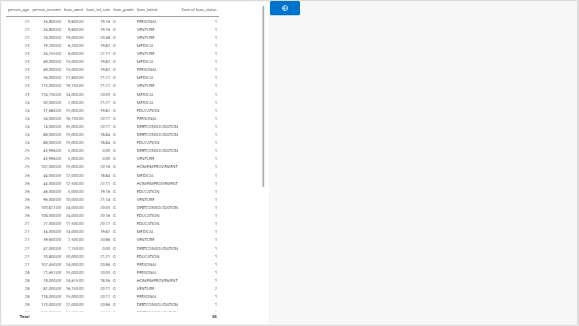

What the dashboard file says about the page in this screenshot:
{"tool":"powerbi","page":{"name":"Drtail Drillthrough","canvas":[1920,1080],"ordinal":2},"visuals":[{"type":"tableEx","fields":{"Values":["credit_risk_dataset.person_age","credit_risk_dataset.person_income","credit_risk_dataset.loan_amnt","credit_risk_dataset.loan_int_rate","credit_risk_dataset.loan_grade","credit_risk_dataset.loan_intent","Sum(credit_risk_dataset.loan_status)"]},"box":[0,0,896,1080],"z":0},{"type":"actionButton","box":[896,0,100,48],"z":1}]}

Visuals, with their boxes on the page's 1920x1080 design canvas (x1, y1, x2, y2). These are canvas units, not pixel positions in the 579x326 screenshot, which may show the page scaled, cropped or inside an application window:
tableEx - credit_risk_dataset.person_age x credit_risk_dataset.person_income: l=0, t=0, r=896, b=1080
actionButton: l=896, t=0, r=996, b=48
